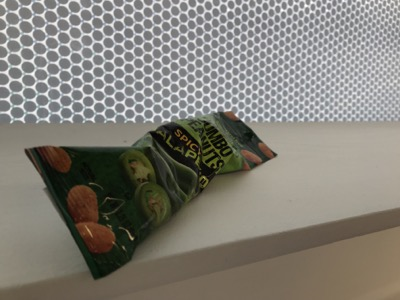peanut: (24, 111, 276, 279)
